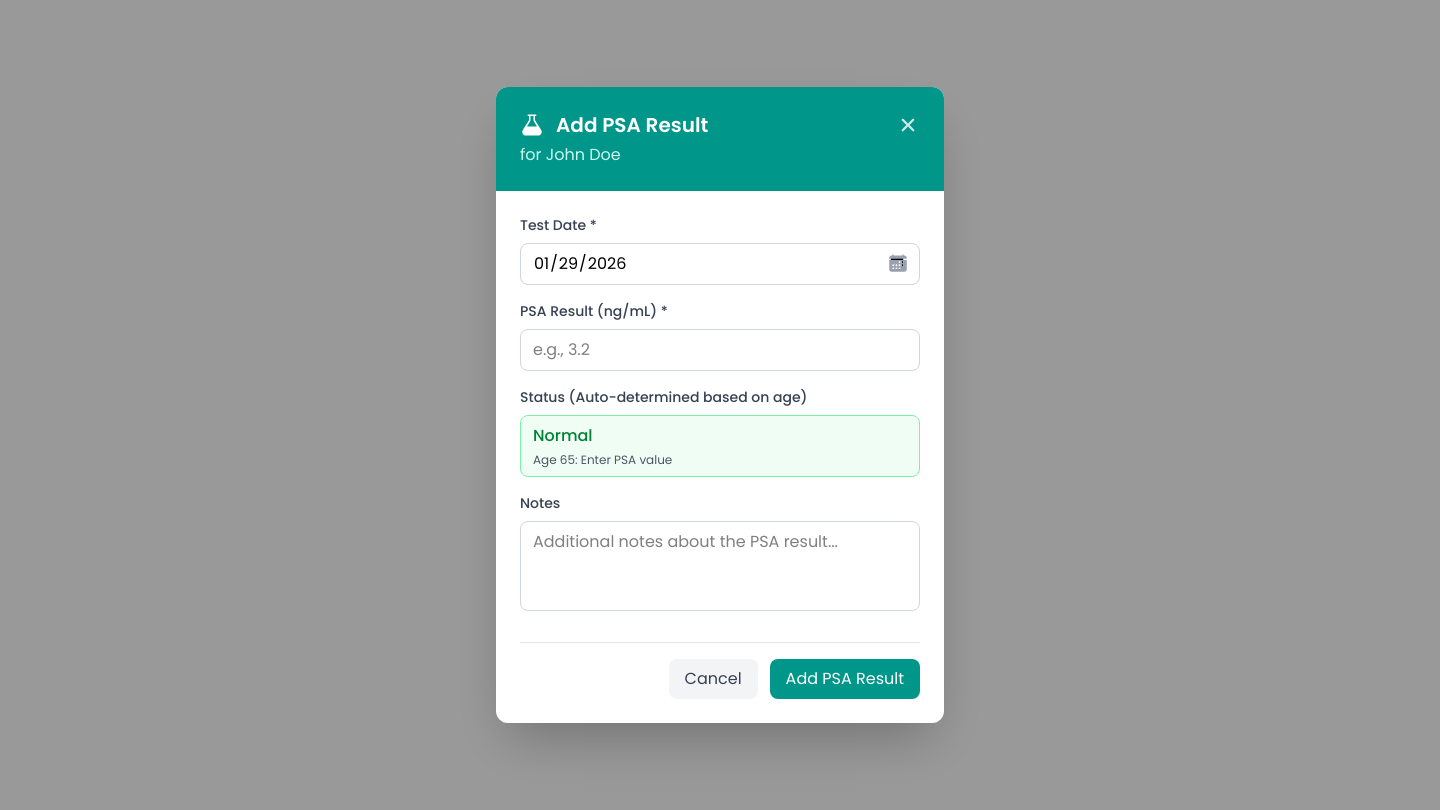
AddPSAResultModal › should handle error with default message
In the date field labelled "Test Date *": (720, 264) [520,243,920,285], type "2024-01-15"
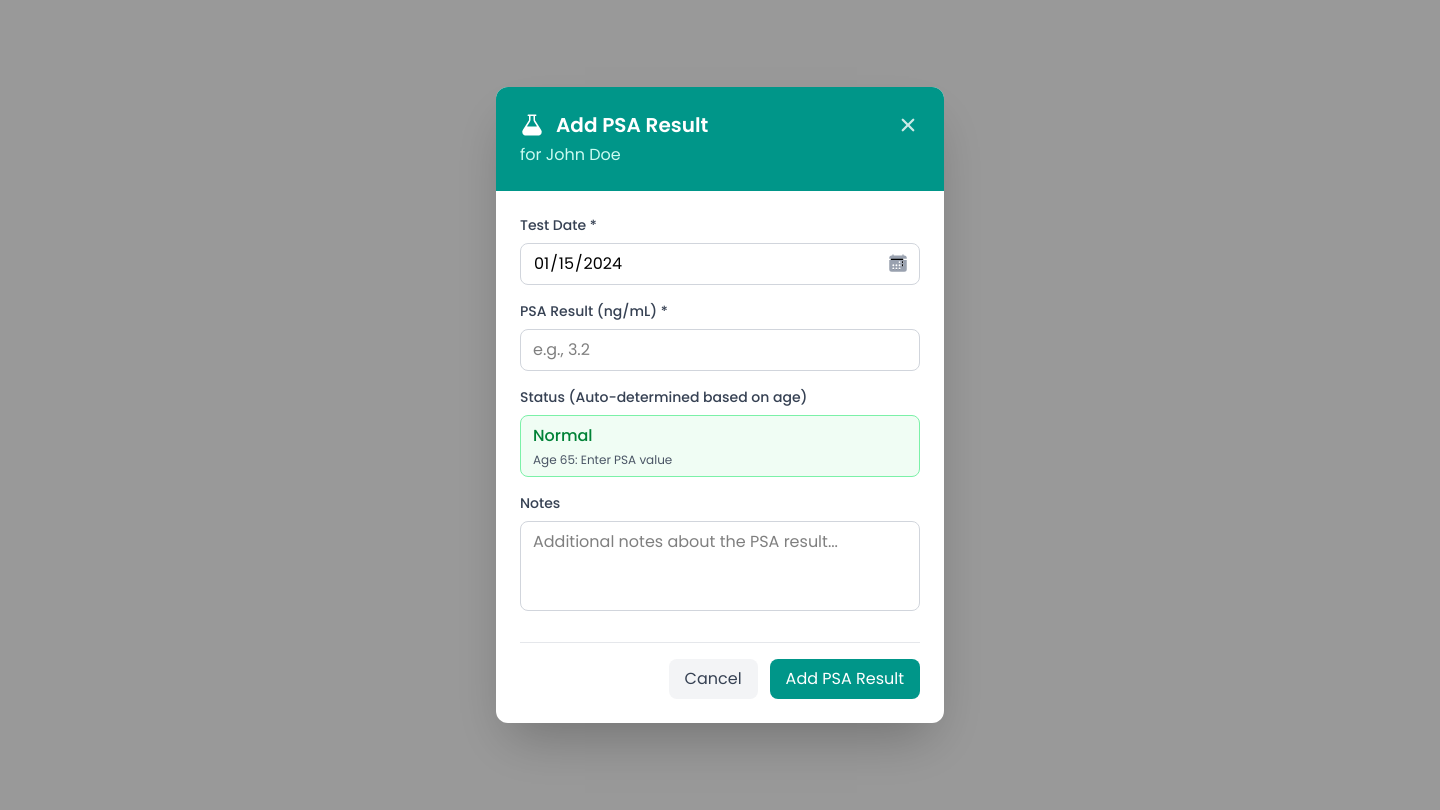
In the number field labelled "PSA Result (ng/mL) *": (720, 350) [520,329,920,371], type "3.5"
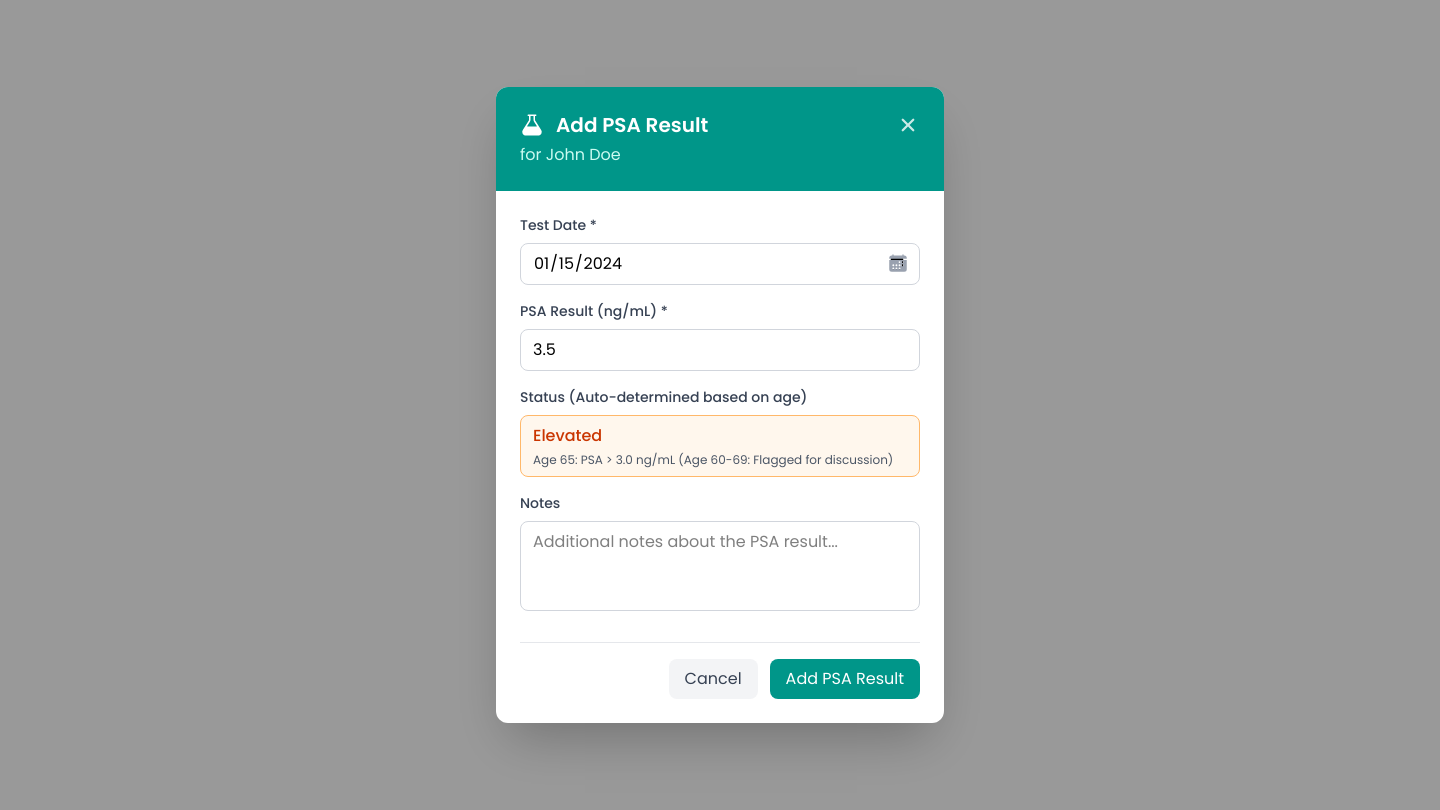
Click the button "Add PSA Result": click(845, 679) [770,659,920,699]
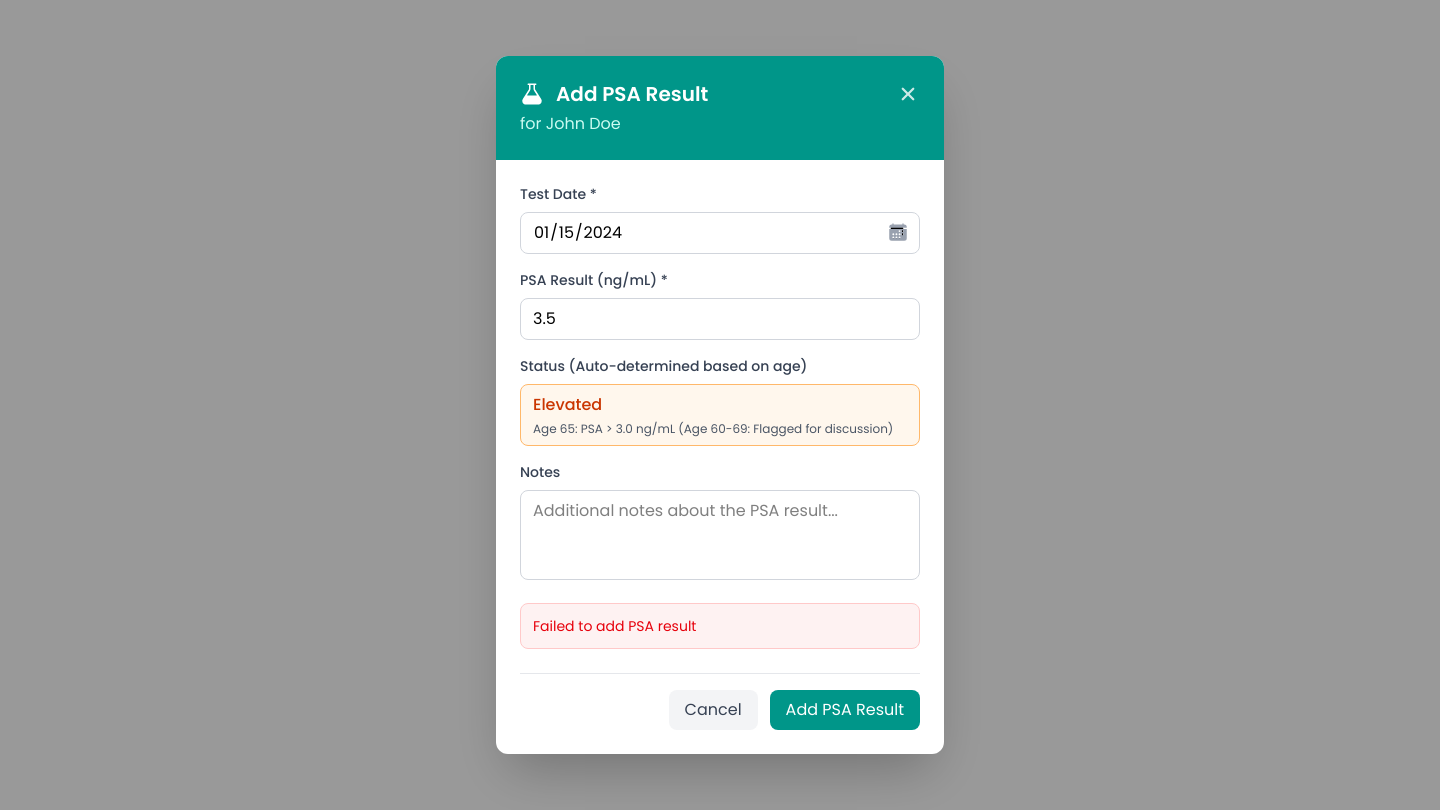
Check: the text "Failed to add PSA result" is shown, box [533,616,696,636]
